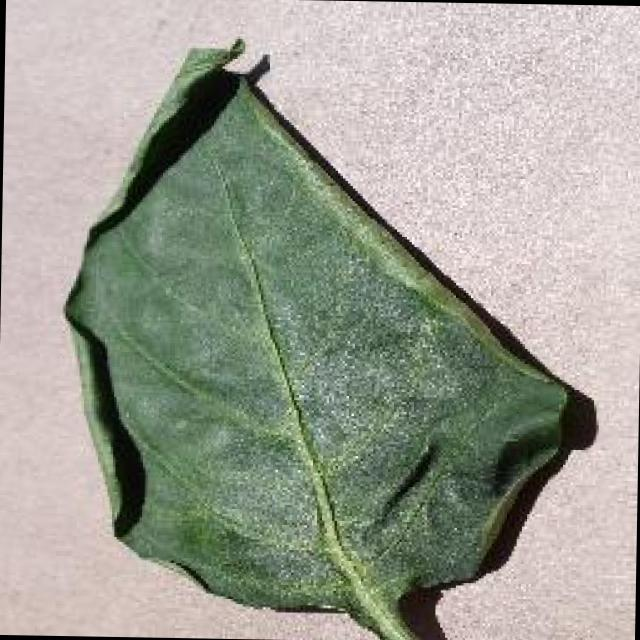Chilli_Healthy: (54, 33, 594, 640)
